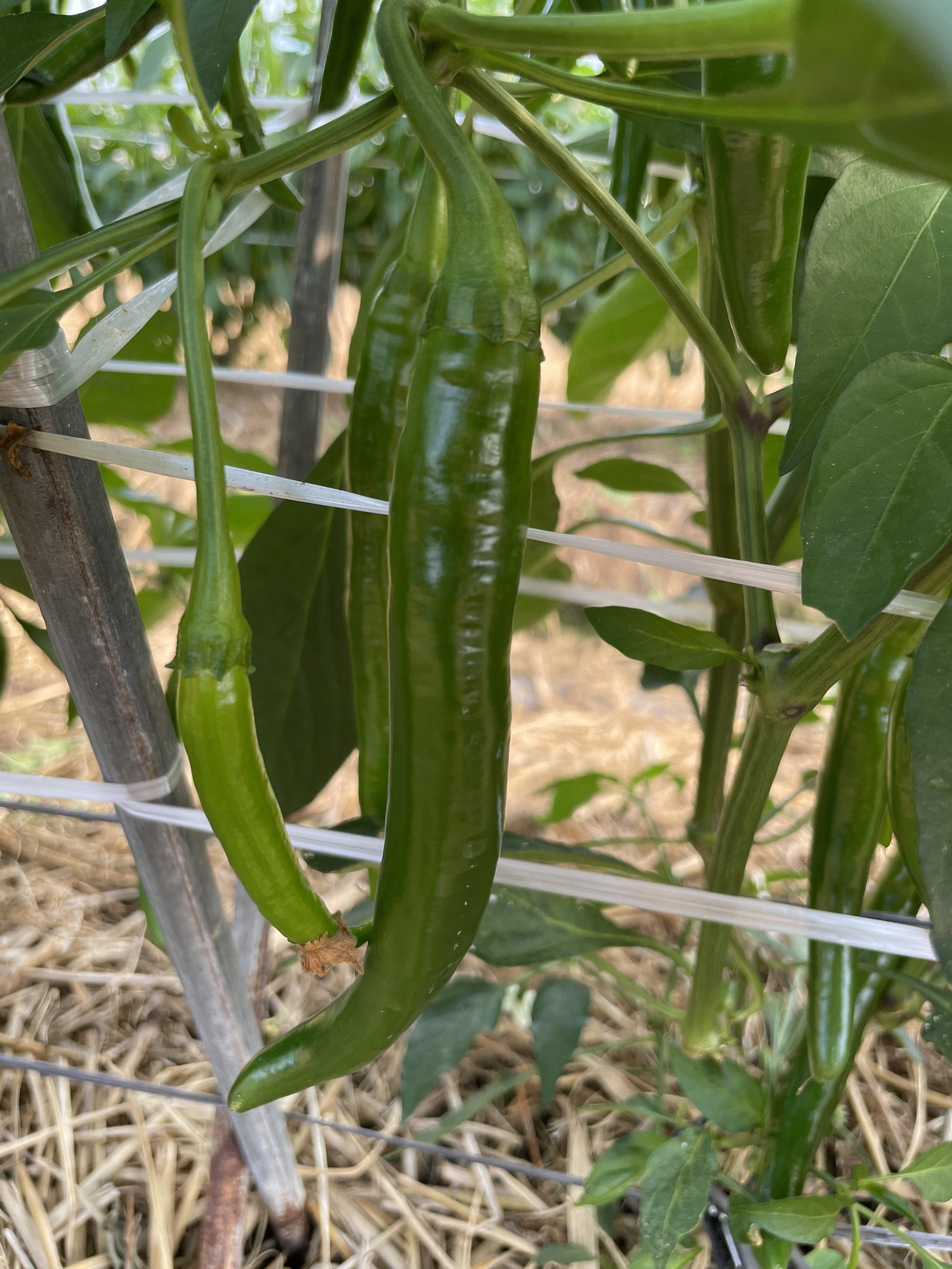Buah Cabai Sehat: (218, 6, 545, 1118), (173, 549, 349, 969)
